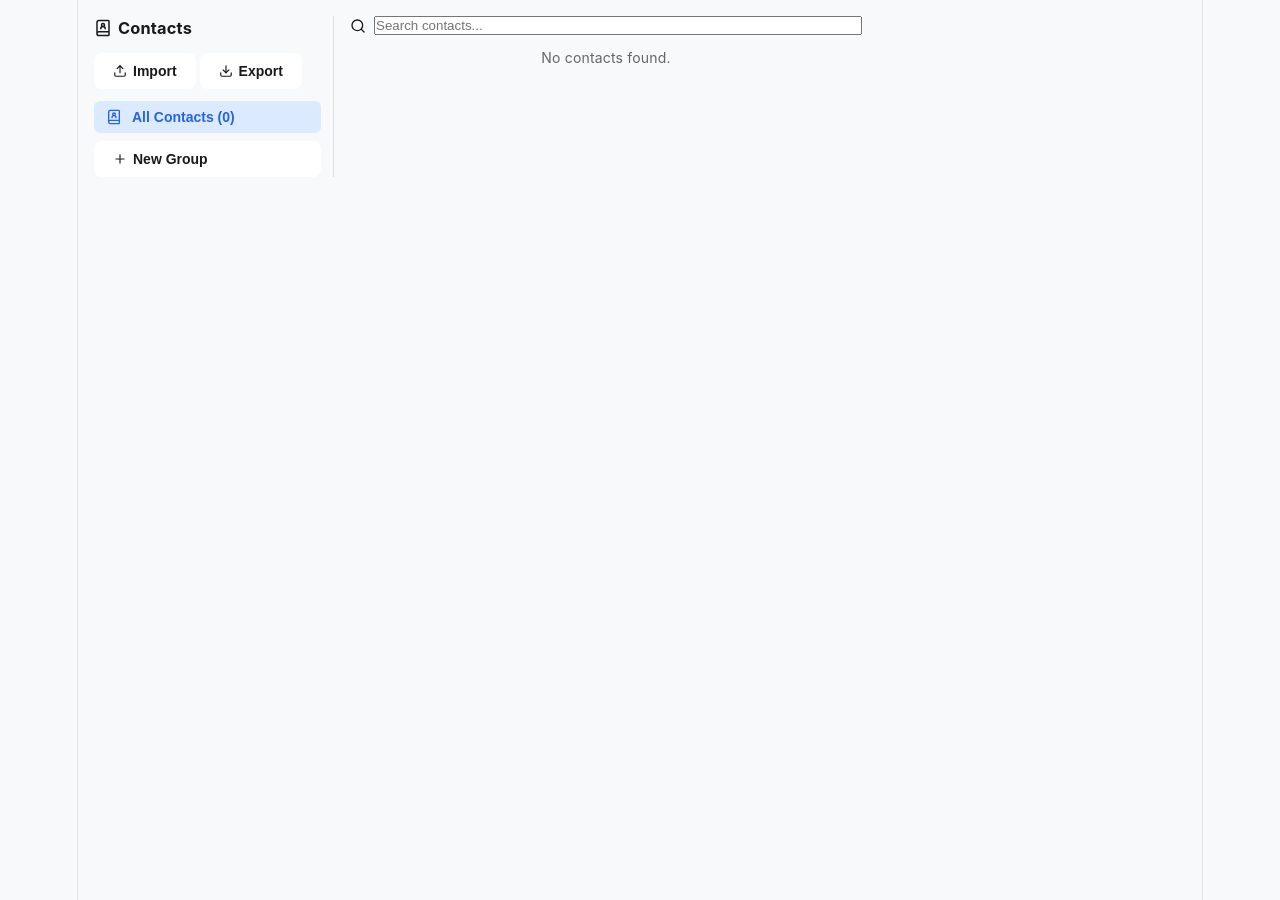
Test: ContactsApp › switches placeholder when CSV tab is selected
This screenshot has width=1280, height=900.
Click the button "Import".
click(145, 71)  # box [94,53,196,89]
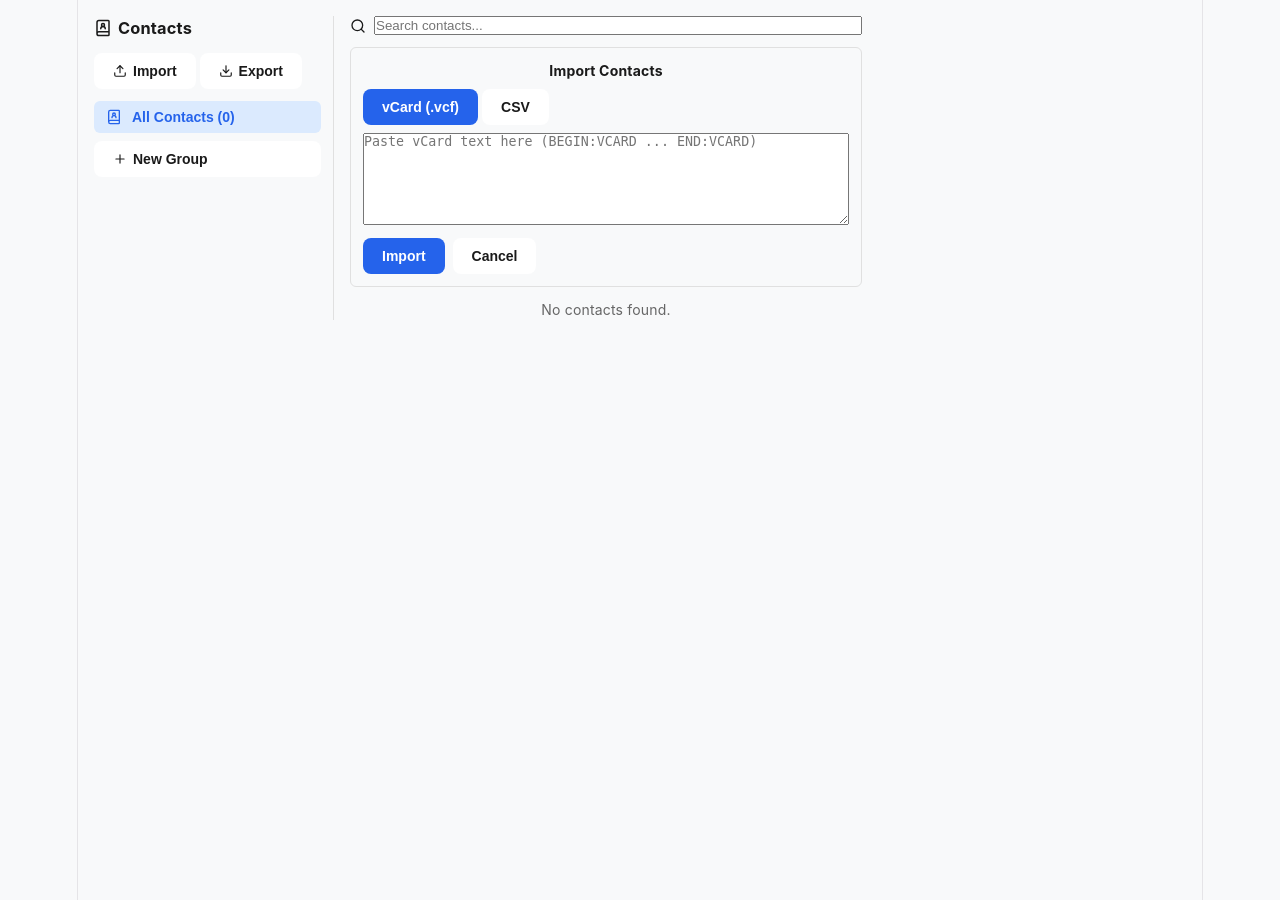
Click the tab "CSV".
click(515, 107)  # box [482,89,549,125]
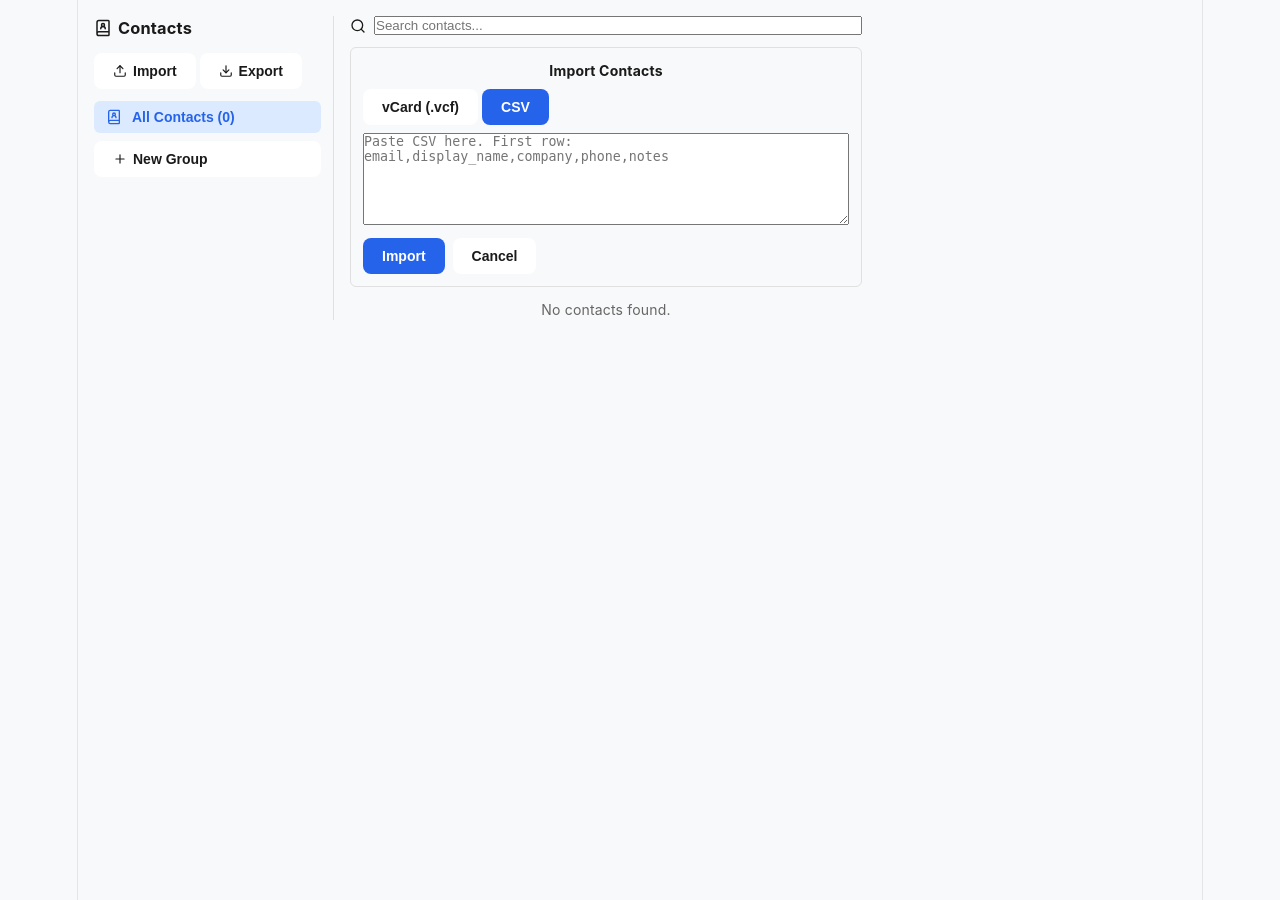
Now the text box with placeholder "Paste CSV here. First row: email,display_name,company,phone,notes" is shown, box [363,133,849,225]
